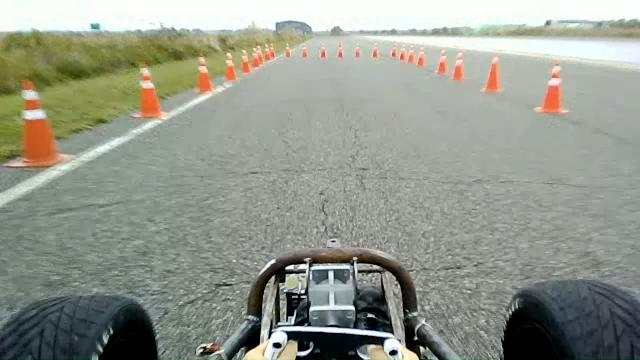red cone: (3, 78, 74, 168), (130, 62, 169, 120), (534, 59, 569, 114), (481, 56, 504, 92), (194, 53, 213, 94), (223, 51, 240, 83), (435, 48, 448, 74), (240, 49, 252, 74), (416, 47, 425, 66), (371, 41, 379, 59), (407, 47, 415, 64), (319, 42, 327, 58), (337, 40, 344, 58), (399, 45, 406, 61), (390, 44, 397, 58), (300, 46, 308, 57), (285, 43, 291, 57), (354, 46, 360, 57)
yellow cone: (451, 50, 464, 80)
